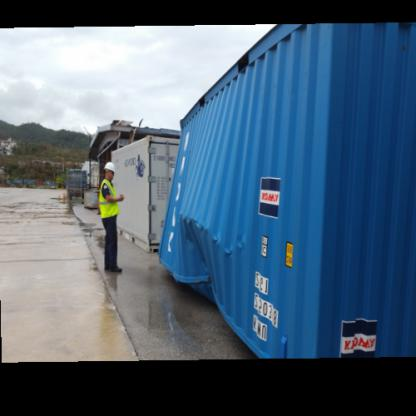Damage: (168, 202, 249, 286)
